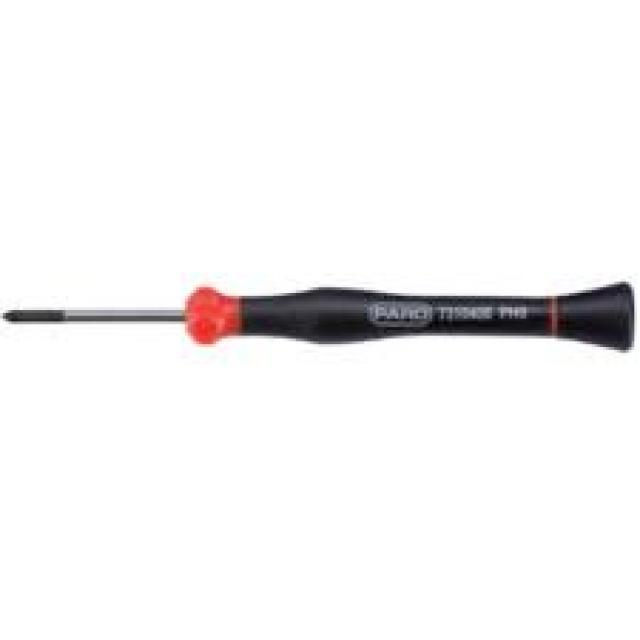screwdriver: (0, 277, 634, 362)
